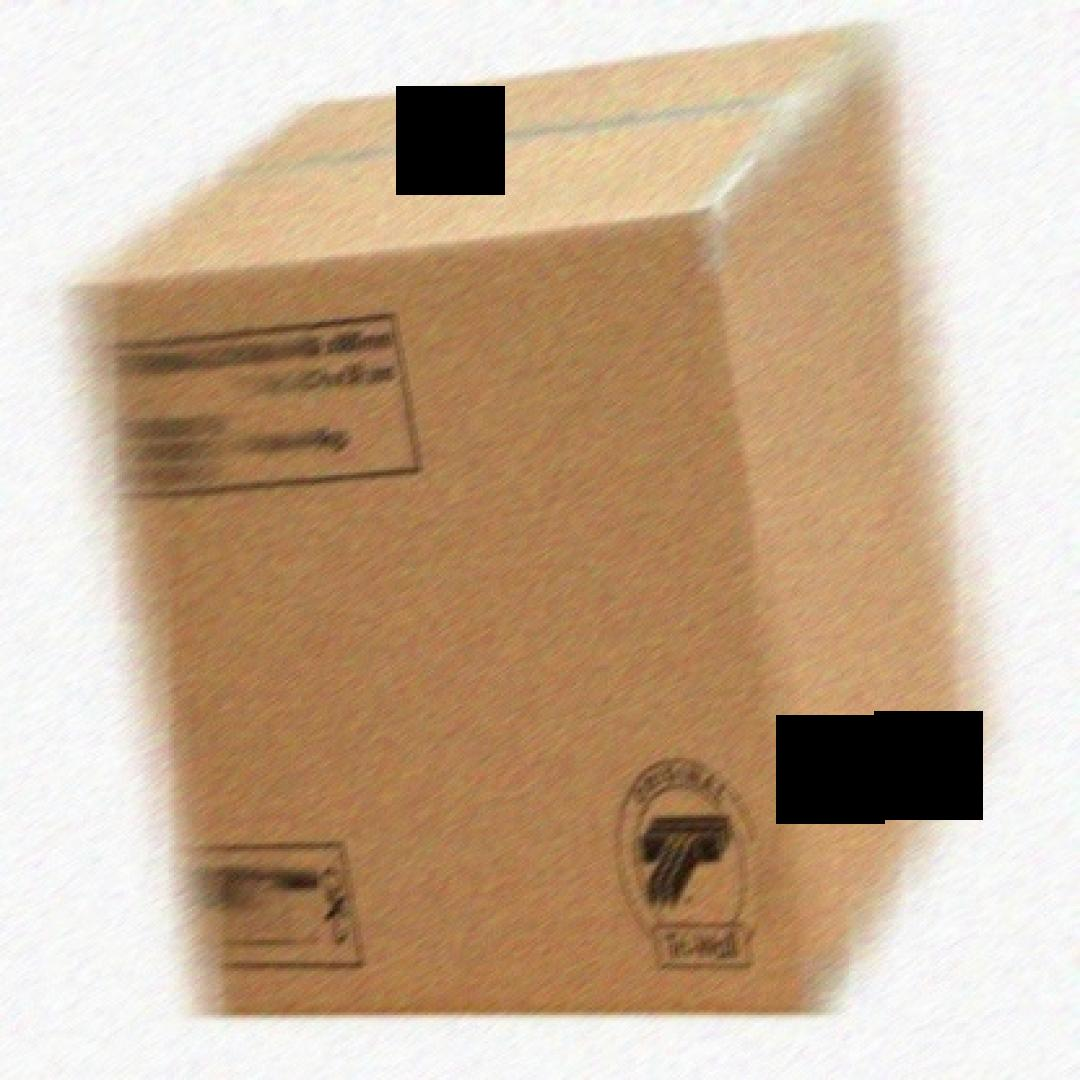package: (78, 15, 989, 1012)
